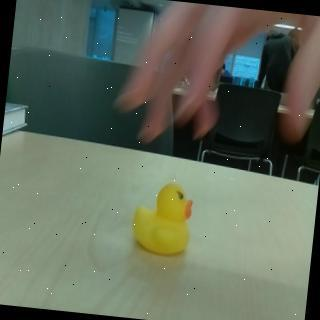duck_regular: (129, 181, 197, 259)
